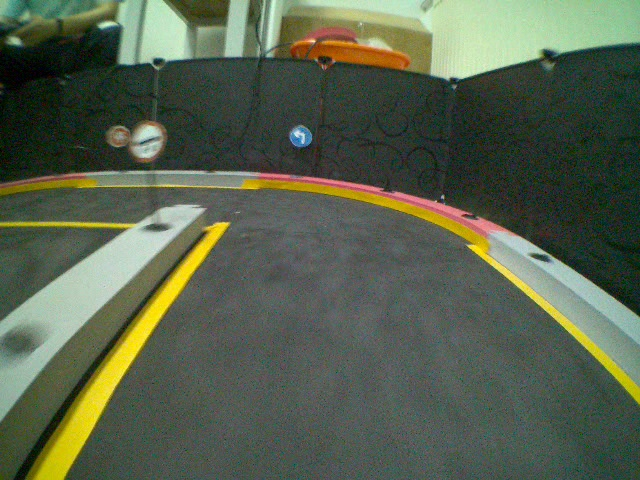Check: (129, 120, 168, 161)
Stop: (105, 124, 130, 152)
turn: (288, 124, 313, 149)
